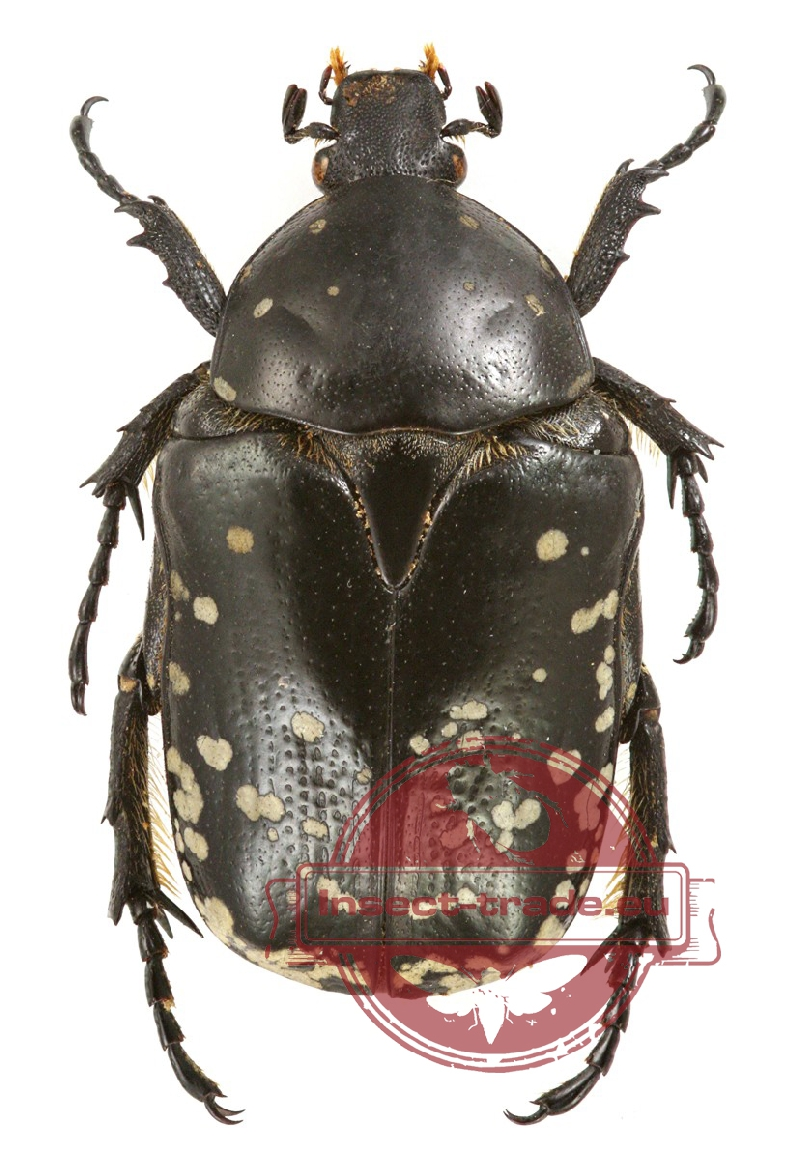Protaetia_funebris: (55, 38, 765, 1121)
